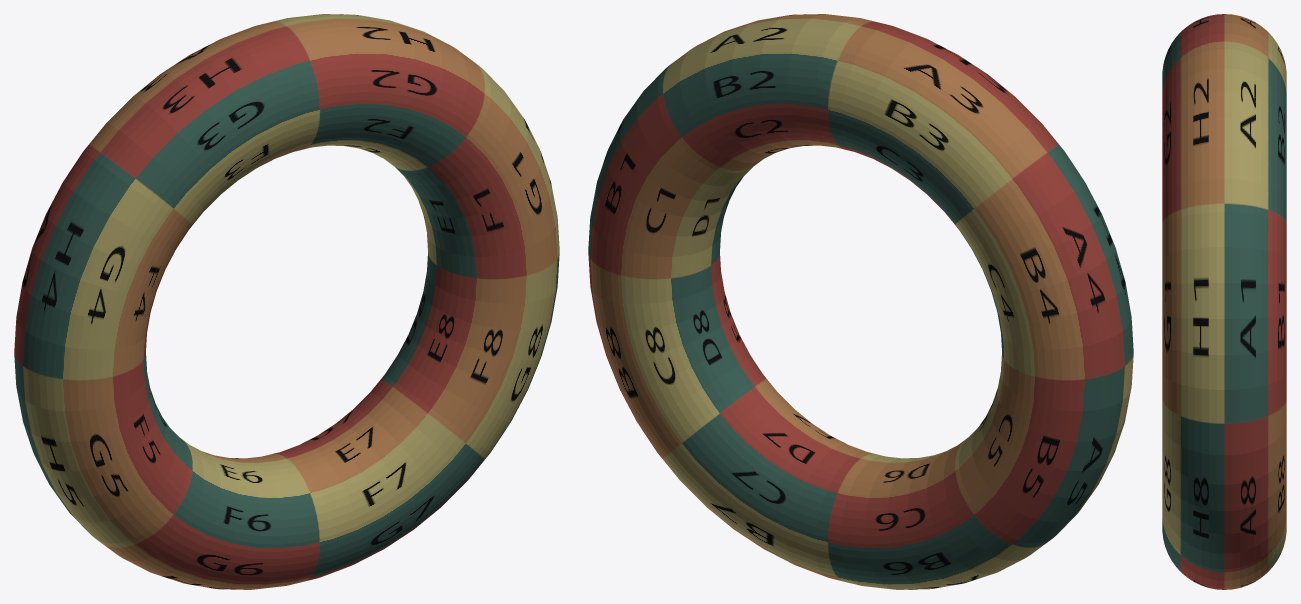
The model's file is texture_torus_R22_r18.glb.
3 renders of one model, left to right at view 1: azimuth 30°, elevation 25°; view 2: azimuth 150°, elevation 25°; view 3: azimuth 270°, elevation 25°, orthographic. The views are drawn at different scales.
Visible parts, largest first — view 1: world; view 2: world; view 3: world.
Part boxes in pixels (x1,y1,x2,y2): world: [14, 14, 559, 589]; world: [588, 14, 1133, 589]; world: [1162, 14, 1286, 589].
Bounding box in the file's own units: 31.47 × 31.4 × 6.79.
Materials: 1 (1 with a texture image).
